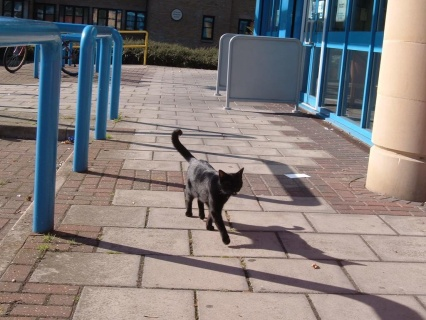Cat: (169, 127, 245, 246)
